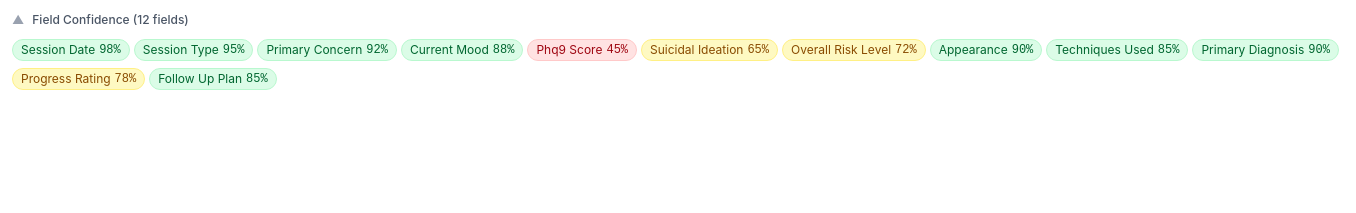
Test: ConfidenceHeatmap › expands source detail on chip click
# Click the session date chip
Click the button titled "Session Date: 98%": (71, 50) [12,39,130,61]
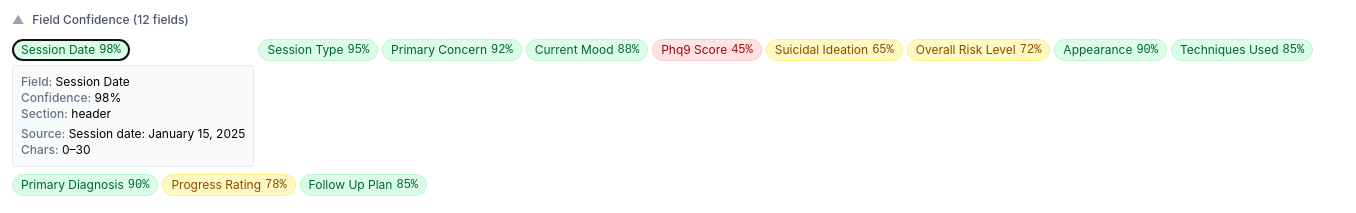
Expected: the text "Section:" is shown, [21,106,68,121]
Expected: the text "header" is shown, [71,106,111,121]
Expected: the text "Source: Session date: January 15, 2025" is shown, [21,126,246,142]
